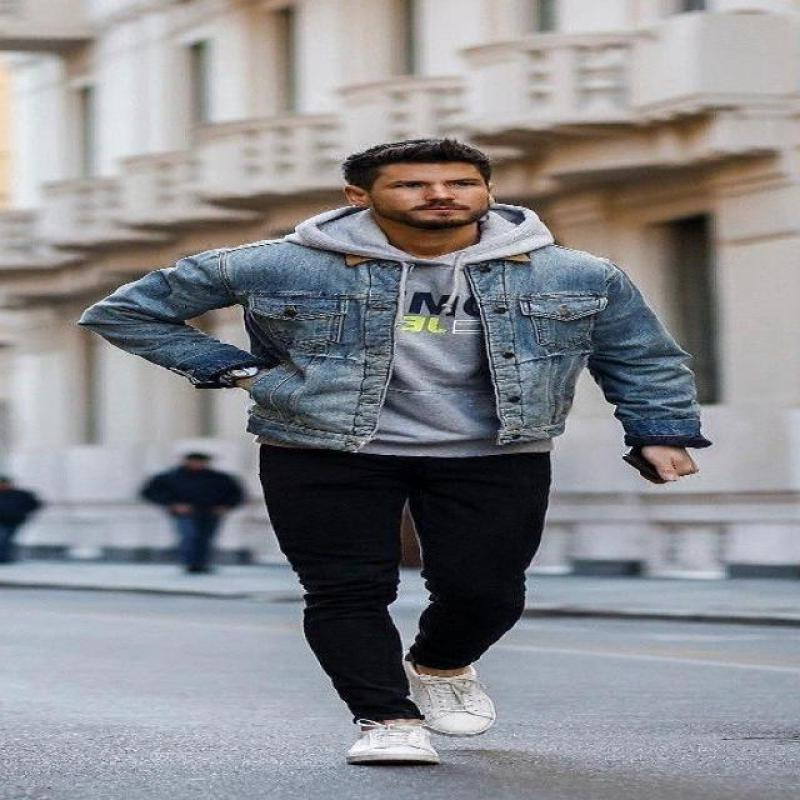jacket: (74, 242, 708, 456)
sweater: (252, 201, 559, 459)
trousers: (253, 450, 557, 728)
